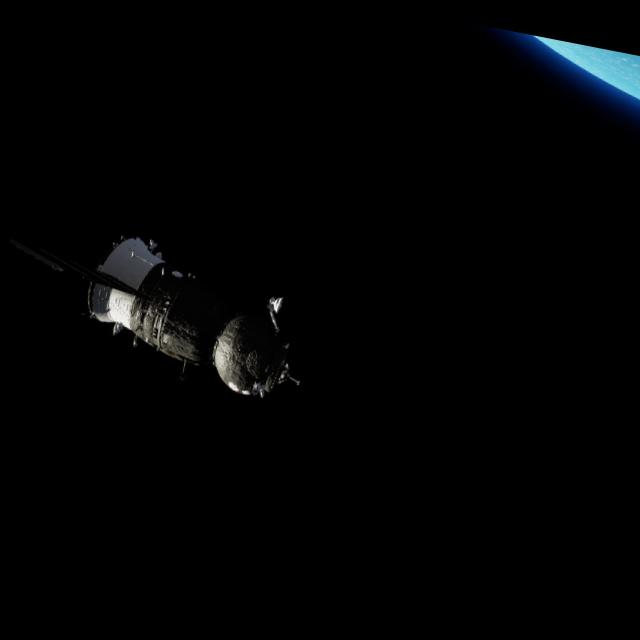Satellites revolving around earth: (71, 224, 323, 411)
